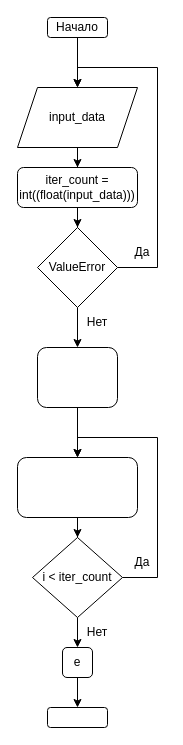
This 183x745 diagram has some shape labels left out. Each missing label, with the centre of its shape:
"term = 1 result = 1 i = 1" belongs at pixel 77 377.
"term = term / i result = result + term i = i + 1" belongs at pixel 77 487.
"Конец" belongs at pixel 77 717.
